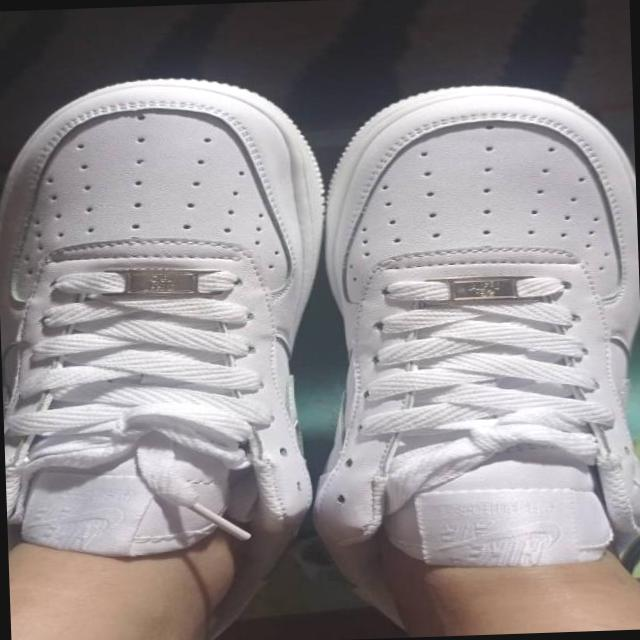nike_fake_airforce: (0, 67, 346, 640), (293, 78, 640, 638)
